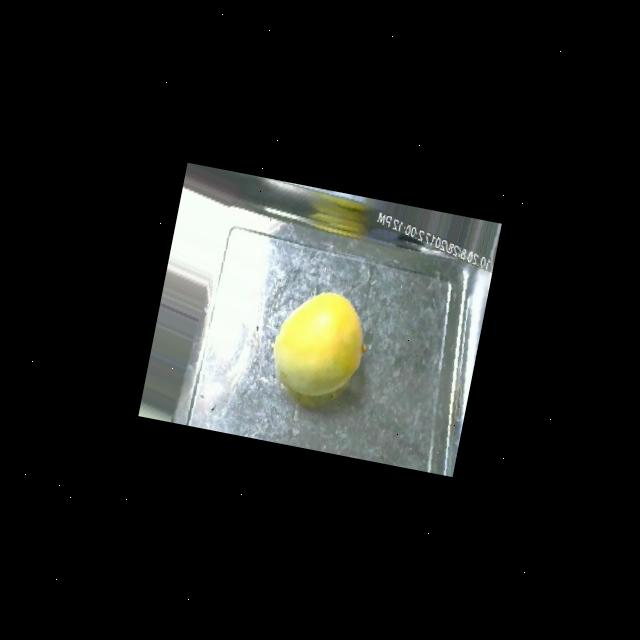Mango: (264, 283, 374, 408)
